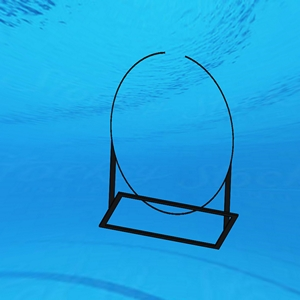circle: (97, 50, 242, 253)
